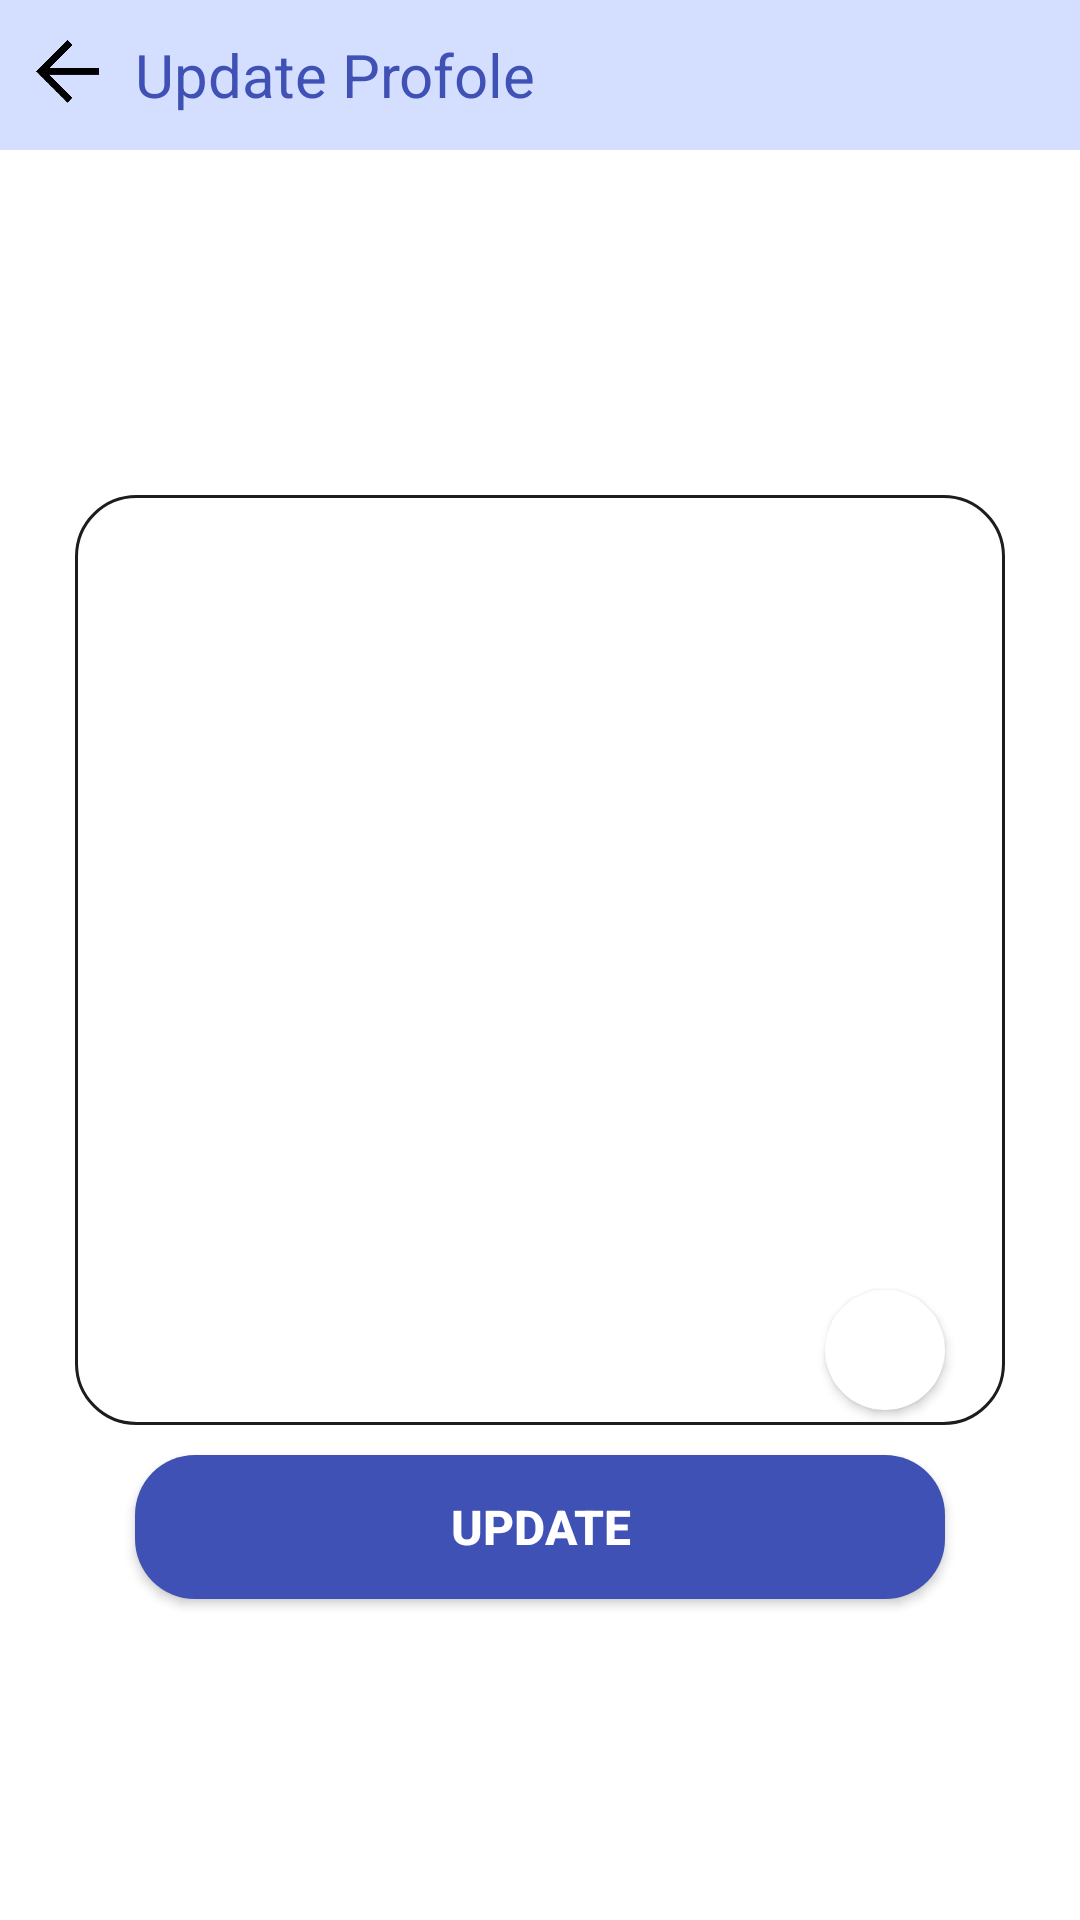

Where to tap for icons on this 1080x1920 app screen, as (x,y):
back: (67,71)
